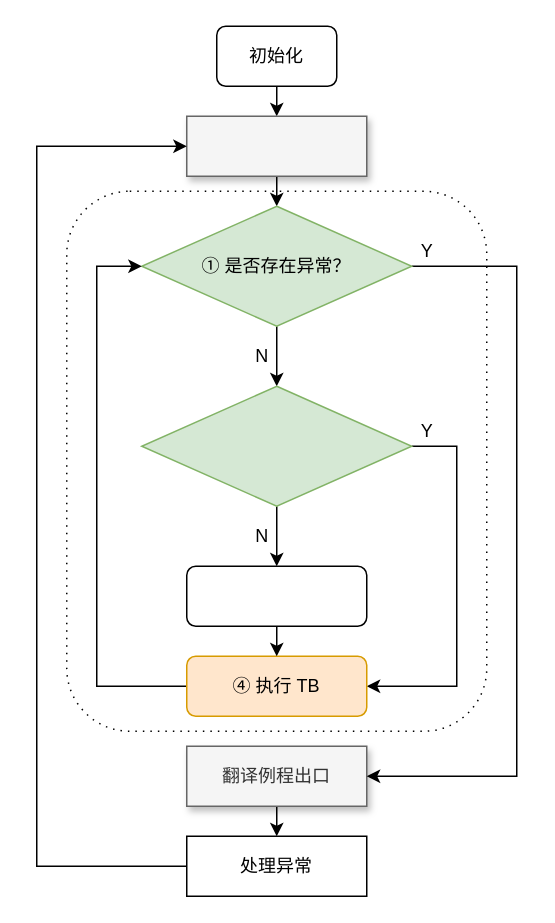
Image size: 555x923. Some labels were removed from this diagram. The centre of each missing label's shape, as x and y in pixels:
"② 查找当前 PC 的 TB 是否存在" goes at (276,445).
"③ 生成 TB" goes at (276,595).
"翻译例程入口" goes at (277,148).
